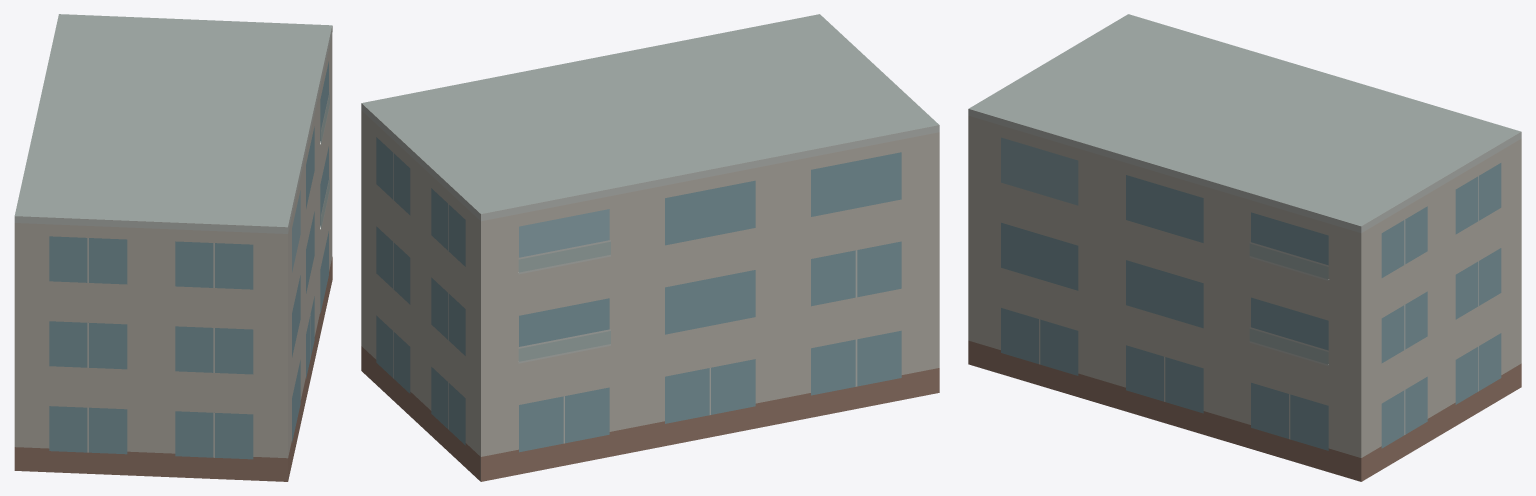
File: survey-upis-32704764.glb
3 views of the same model, side by side, from view 1: azimuth 30°, elevation 25°; view 2: azimuth 150°, elevation 25°; view 3: azimuth 270°, elevation 25° (orthographic). The views are drawn at different scales.
Visible parts, largest first — view 1: survey-upis-32704764.tmp; view 2: survey-upis-32704764.tmp; view 3: survey-upis-32704764.tmp.
Part boxes in pixels (x1,y1,x2,y2): survey-upis-32704764.tmp: (14, 14, 332, 481); survey-upis-32704764.tmp: (361, 14, 939, 481); survey-upis-32704764.tmp: (968, 14, 1521, 481).
Bounding box in the file's own units: 16.33 × 9.15 × 17.97.
